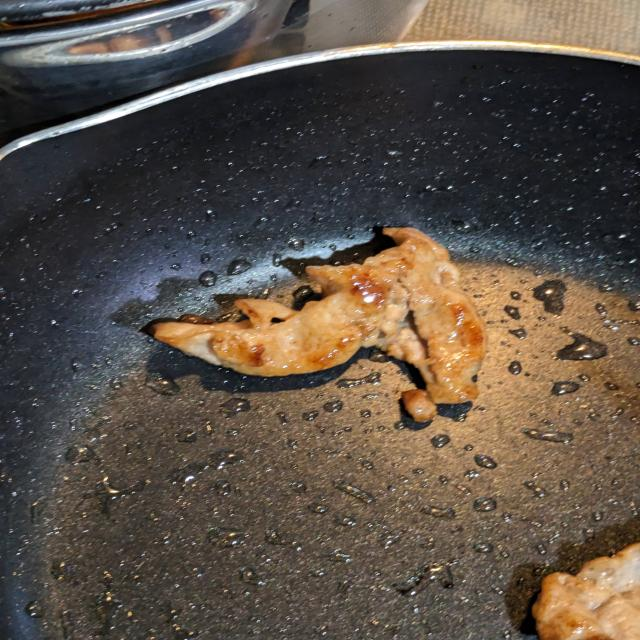OK cooked pork,: (125, 215, 495, 432), (526, 535, 640, 640)
